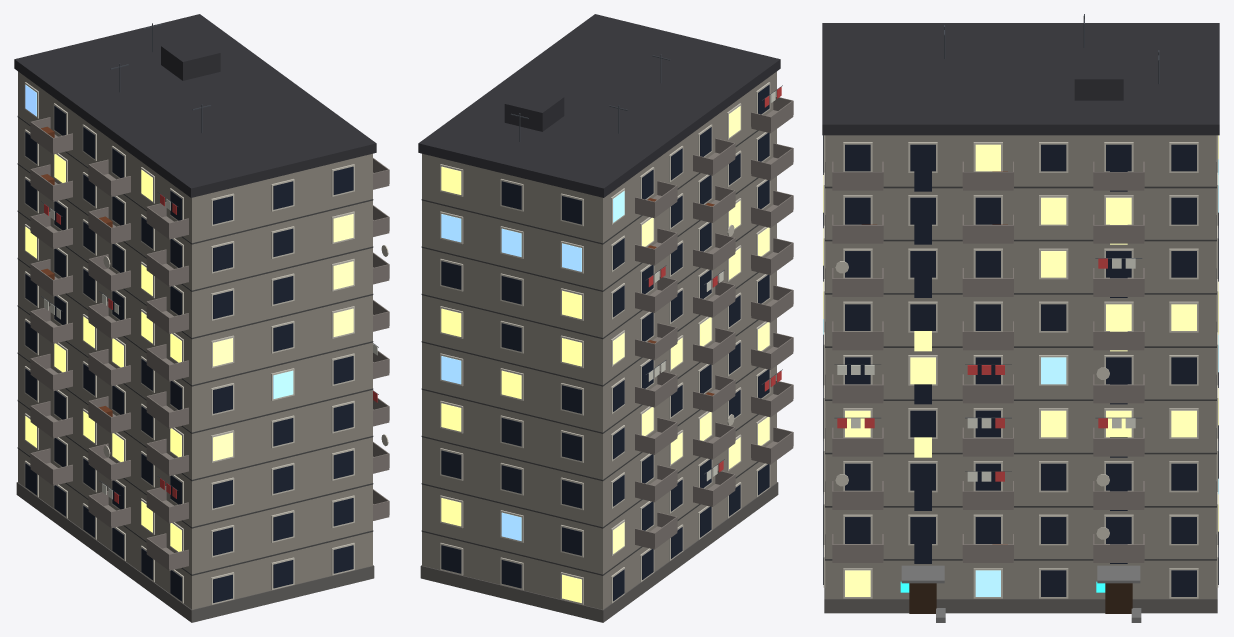
Rendered from panel_9.glb.
3 views of the same model, side by side, from view 1: azimuth 30°, elevation 25°; view 2: azimuth 150°, elevation 25°; view 3: azimuth 270°, elevation 25° (orthographic). The views are drawn at different scales.
Parts seen in each view (by area): view 1: panel_9; view 2: panel_9; view 3: panel_9.
Part boxes in pixels (x1,y1,x2,y2): panel_9: (14,14,389,622); panel_9: (418,14,793,622); panel_9: (822,14,1219,622).
Bounding box in the file's own units: 15.13 × 29.4 × 20.3.
